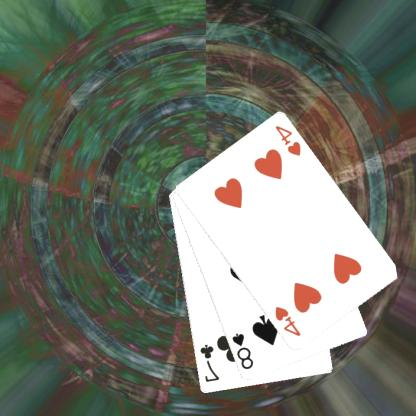4H: (274, 123, 304, 158), (274, 304, 304, 338)
7C: (199, 342, 222, 384)
8S: (230, 330, 256, 371)
